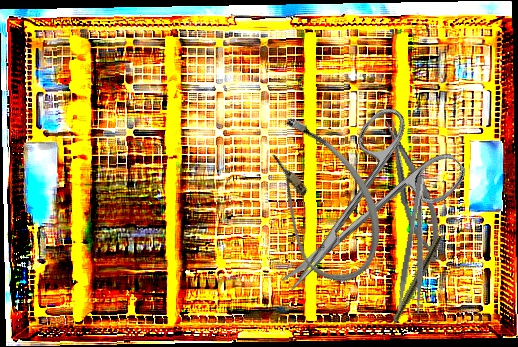Cannula: (234, 103, 406, 296)
Dressing Forceps: (395, 175, 439, 315)
Handpiece: (381, 234, 444, 341)
Iris Scissors: (245, 96, 471, 322)
Needle Holder: (378, 115, 450, 266)
